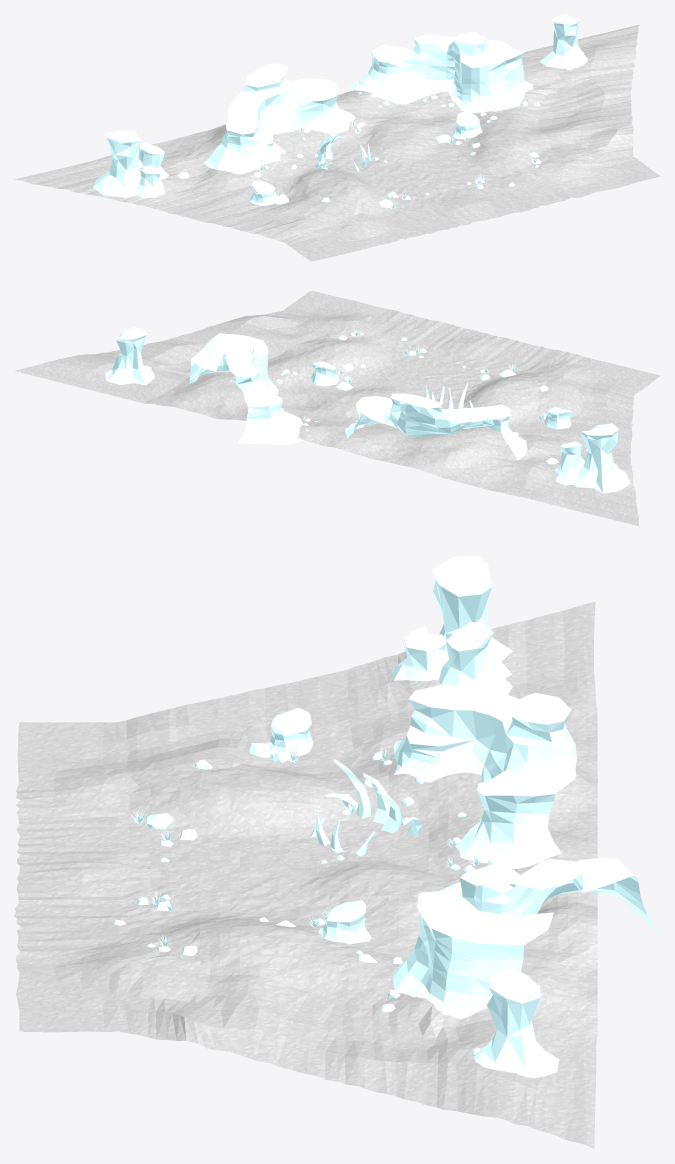
Rendered from desertDiorama.fbx.
The picture shows the model from 3 angles, top to bottom: view 1: azimuth 30°, elevation 25°; view 2: azimuth 150°, elevation 25°; view 3: azimuth 270°, elevation 25°; orthographic projection. The views are drawn at different scales.
Parts seen in each view (by area): view 1: desertDioGround, desertDioProps01, desertDioProps02; view 2: desertDioGround, desertDioProps01, desertDioProps02; view 3: desertDioGround, desertDioProps01, desertDioProps02.
Part boxes in pixels (x1,y1,x2,y2): desertDioGround: (14, 24, 660, 261); desertDioProps01: (93, 63, 429, 208); desertDioProps02: (349, 14, 587, 188); desertDioGround: (14, 290, 660, 526); desertDioProps01: (345, 364, 630, 493); desertDioProps02: (105, 327, 426, 444); desertDioGround: (14, 601, 597, 1149); desertDioProps01: (129, 555, 576, 872); desertDioProps02: (114, 857, 660, 1078).
Size of the model in its own units: 65.79 by 7.52 by 32.56.
